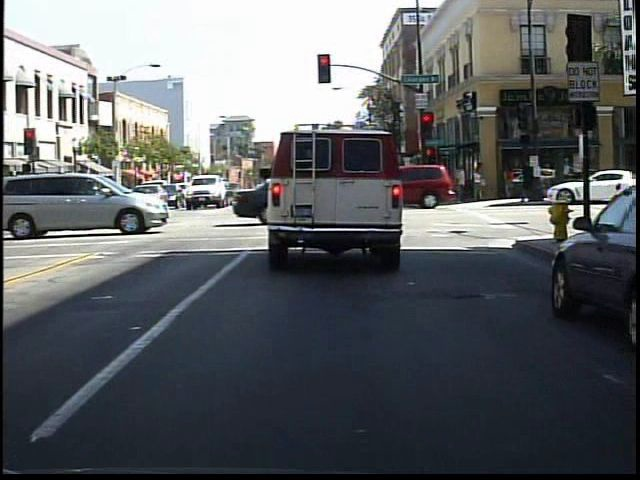person: (517, 156, 537, 206), (499, 159, 519, 202)
